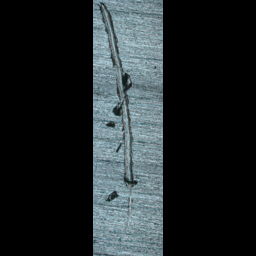d: (96, 1, 139, 249)
